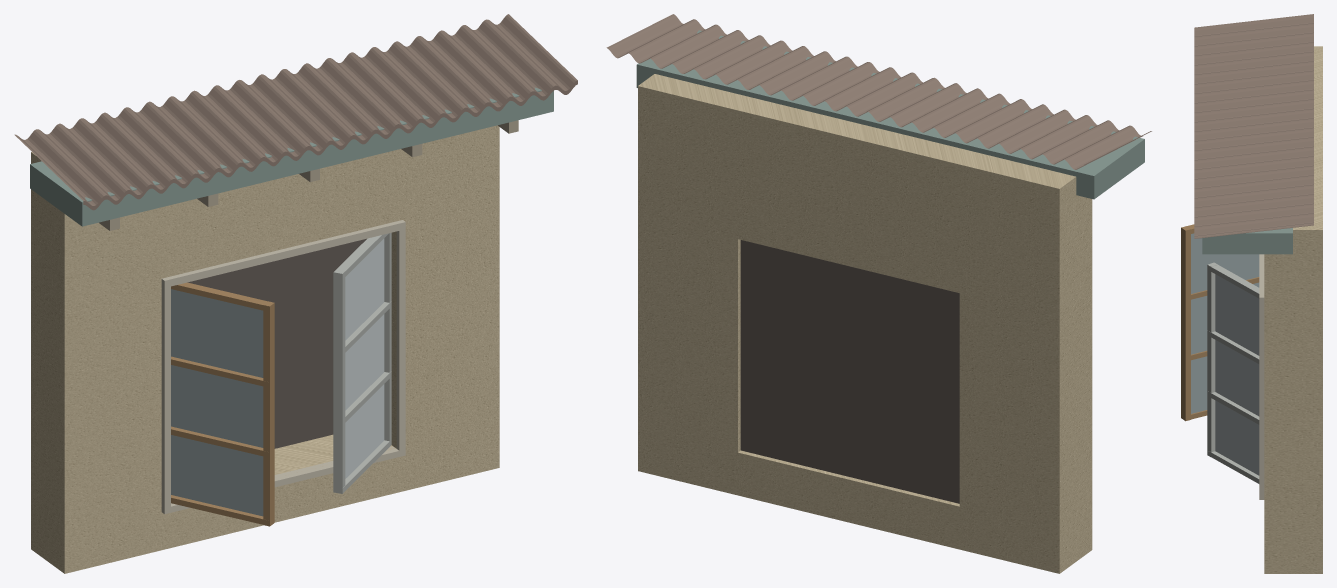
The model's file is cooper-apartments-open-casements-near.glb.
The picture shows the model from 3 angles, left to right: view 1: azimuth 30°, elevation 25°; view 2: azimuth 150°, elevation 25°; view 3: azimuth 270°, elevation 25°; orthographic projection. The views are drawn at different scales.
Visible parts, largest first — view 1: 古柏公寓中段上层外开窗与瓦檐; view 2: 古柏公寓中段上层外开窗与瓦檐; view 3: 古柏公寓中段上层外开窗与瓦檐.
Part boxes in pixels (x1,y1,x2,y2): 古柏公寓中段上层外开窗与瓦檐: [14, 14, 577, 573]; 古柏公寓中段上层外开窗与瓦檐: [606, 14, 1151, 573]; 古柏公寓中段上层外开窗与瓦檐: [1181, 14, 1322, 573].
Size of the model in its own units: 3.39 by 2.77 by 0.9711.
Materials: 10 (1 with a texture image).
